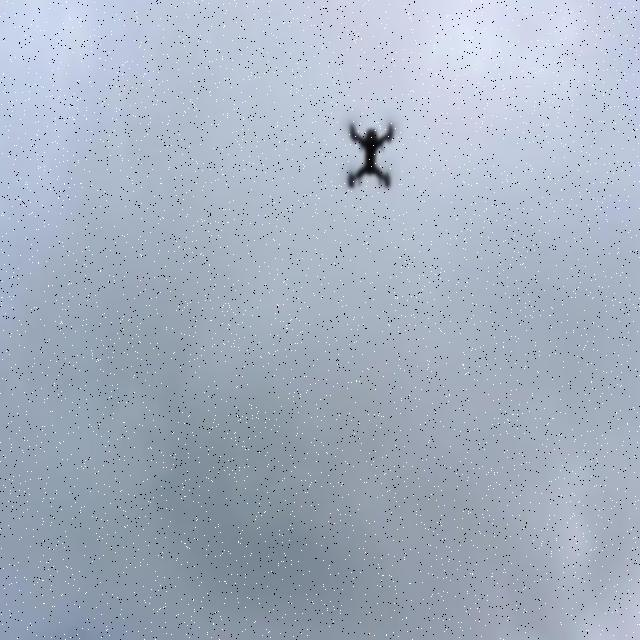UAV: (346, 120, 395, 192)
